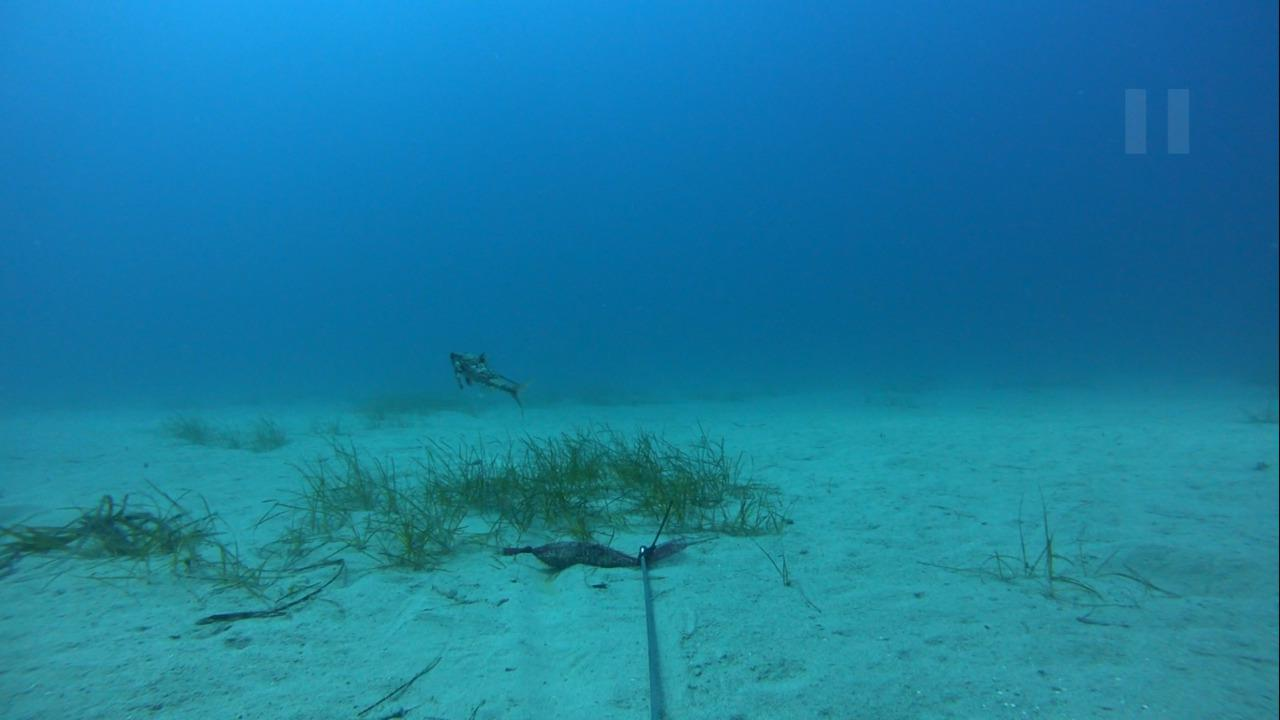dactylopterus: (436, 341, 542, 412)
